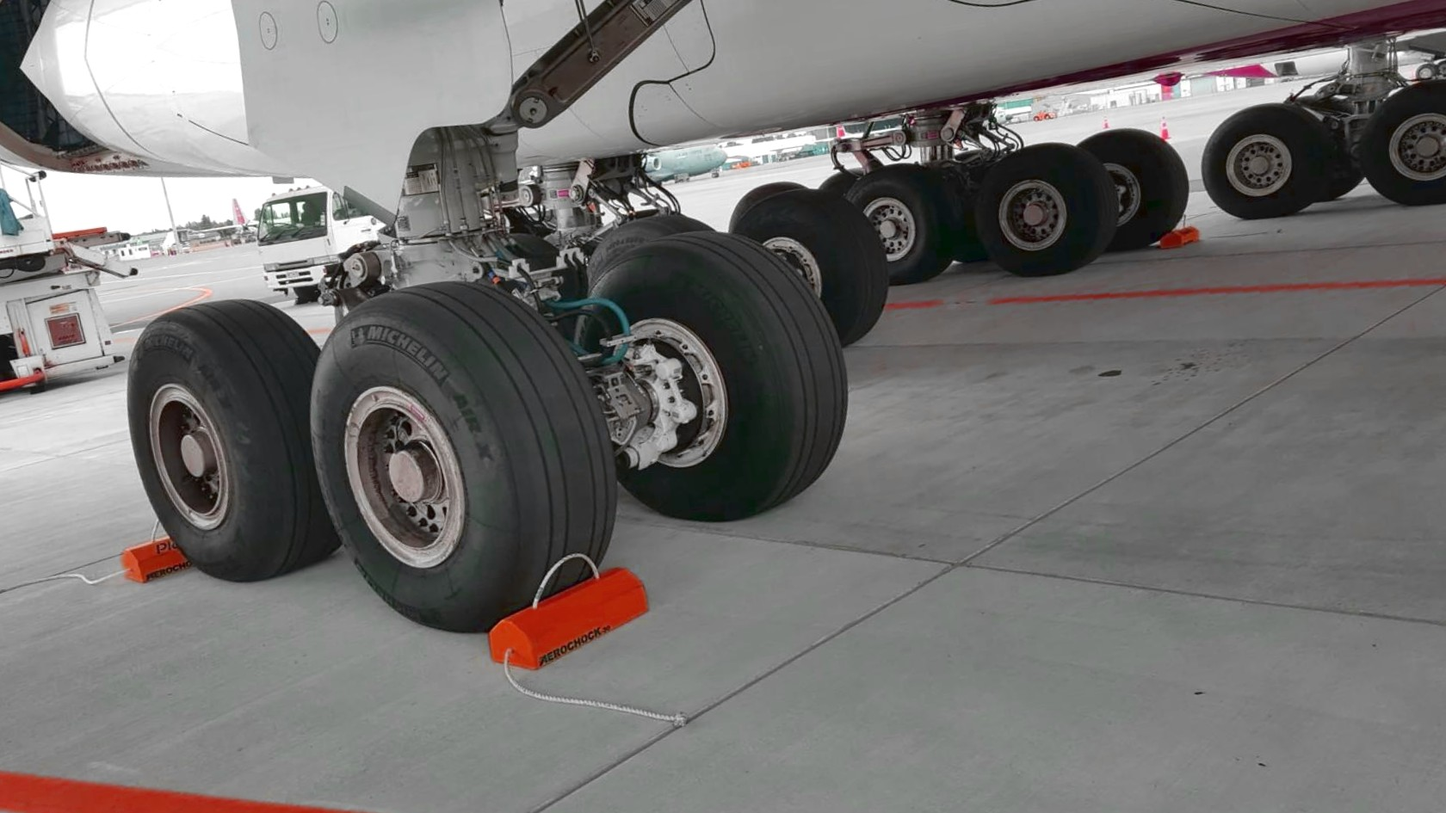chock: (472, 561, 659, 675), (112, 519, 259, 588), (1152, 224, 1210, 254)
wheel: (288, 253, 642, 645), (562, 202, 862, 539), (109, 283, 362, 594), (719, 167, 898, 358), (965, 133, 1124, 286), (1191, 92, 1349, 228), (1072, 116, 1202, 257), (842, 154, 971, 291), (1346, 68, 1446, 214), (924, 147, 1011, 268), (584, 203, 720, 278), (724, 175, 821, 231)
